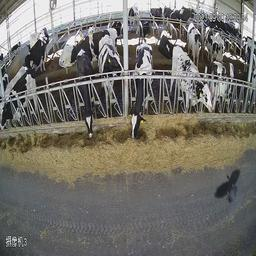cow: (170, 44, 214, 116), (74, 48, 100, 135), (2, 67, 38, 129), (131, 42, 153, 141), (97, 36, 120, 107), (212, 61, 239, 112), (23, 35, 53, 74), (59, 28, 84, 70), (203, 24, 223, 67), (185, 19, 201, 71), (159, 25, 176, 62), (149, 6, 163, 28), (128, 5, 139, 33), (140, 19, 151, 37)
